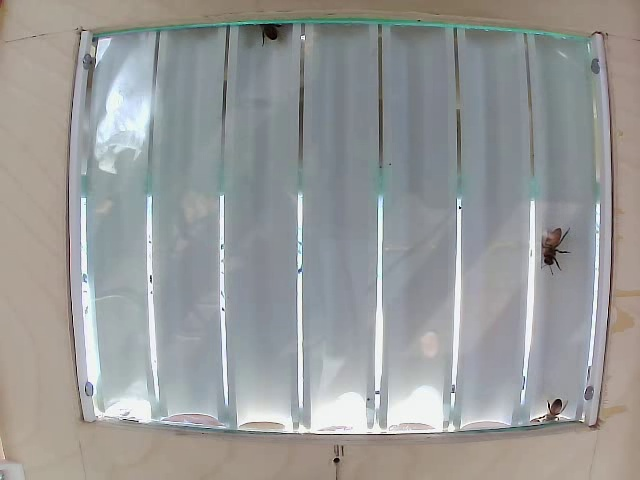bee: (529, 223, 574, 280)
